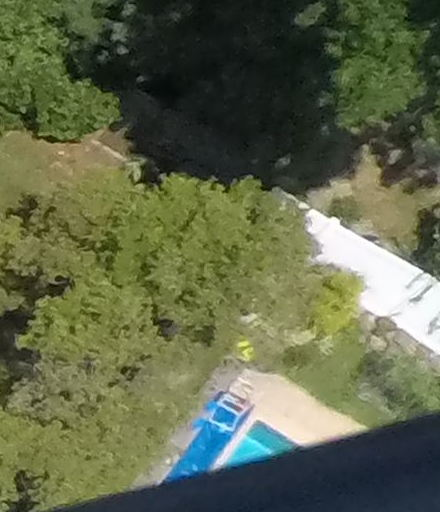pool: (142, 366, 301, 473)
